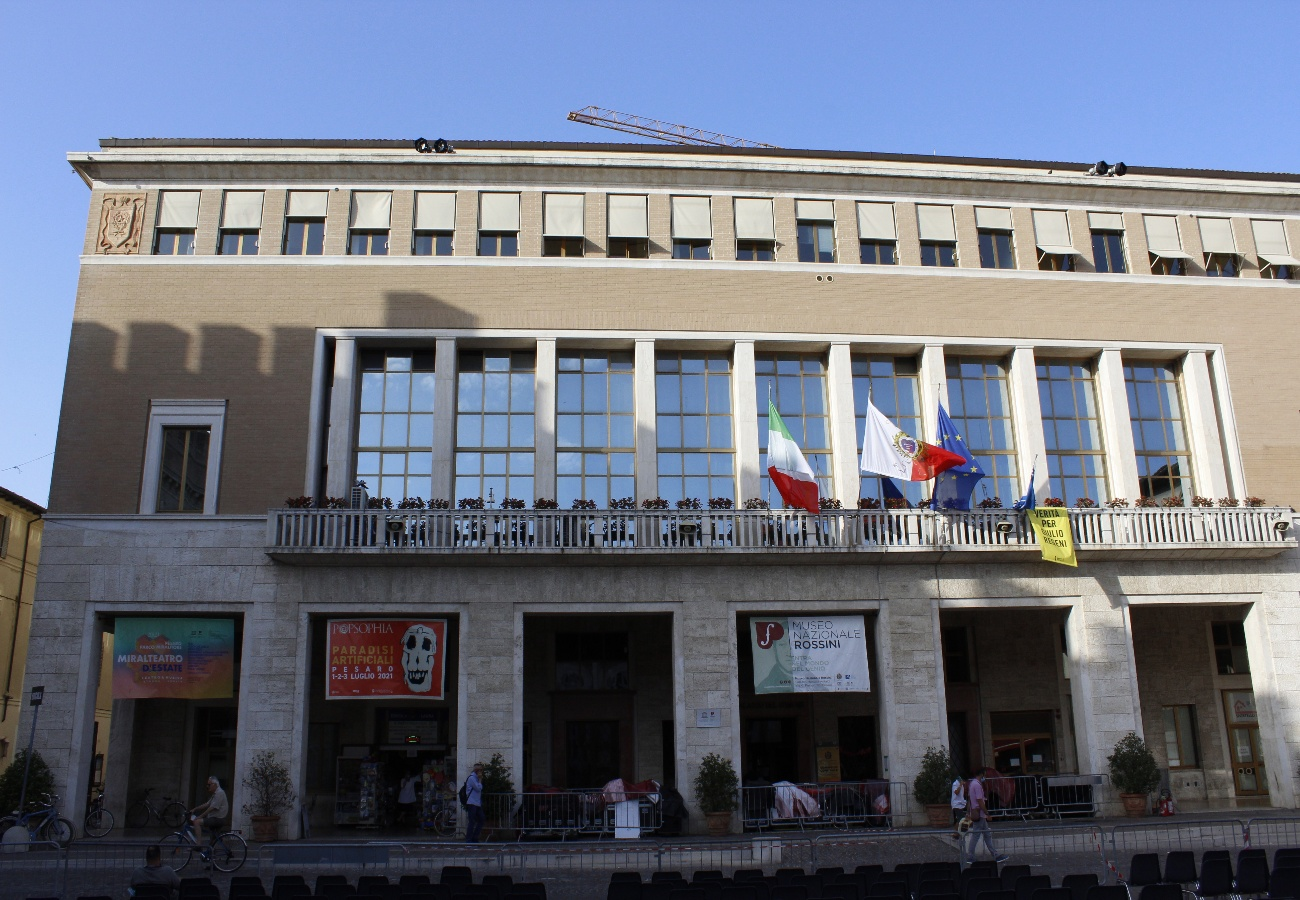Palazzo Comunale: (52, 132, 1300, 848)
